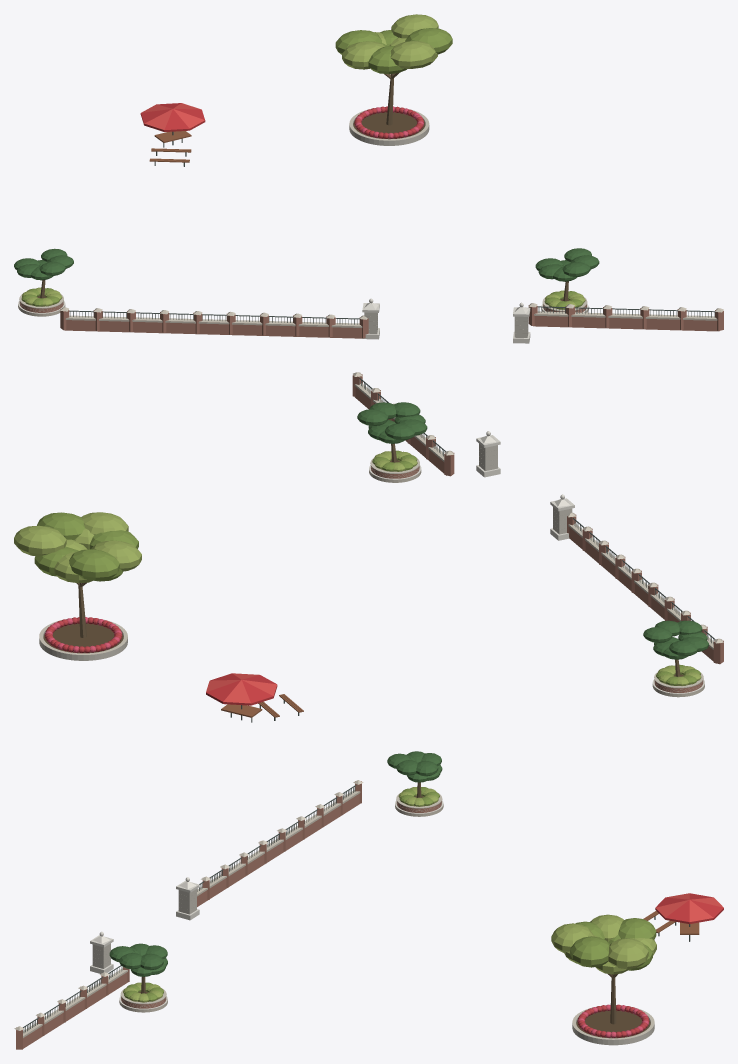
The picture shows the model from 3 angles, top to bottom: view 1: azimuth 30°, elevation 25°; view 2: azimuth 150°, elevation 25°; view 3: azimuth 270°, elevation 25°; orthographic projection. The views are drawn at different scales.
Visible parts, largest first — view 1: gate-fence__fenceBrick, gate-fence__graniteWarm, courtyard-tree__leafLight, courtyard-tree__leafGreen, gate-pine-east__pineGreen, gate-fence__fenceIron, gate-piers__granite, courtyard-round-planter__bedSoil, courtyard-parasol__umbrellaRed, gate-piers__graniteWhite, courtyard-parasol__umbrellaLight, courtyard-round-planter__flowerRed (+1 smaller); view 2: courtyard-tree__leafLight, gate-pine-east__pineGreen, gate-fence__fenceBrick, courtyard-tree__leafGreen, gate-fence__graniteWarm, gate-piers__granite, courtyard-round-planter__bedSoil, courtyard-parasol__umbrellaRed, gate-piers__graniteWhite, courtyard-parasol__umbrellaLight, gate-fence__fenceIron, courtyard-round-planter__flowerRed (+1 smaller); view 3: gate-fence__fenceBrick, courtyard-tree__leafLight, gate-fence__graniteWarm, courtyard-tree__leafGreen, gate-pine-east__pineGreen, gate-piers__granite, gate-fence__fenceIron, courtyard-round-planter__bedSoil, courtyard-parasol__umbrellaRed, gate-piers__graniteWhite, courtyard-parasol__umbrellaLight, courtyard-round-planter__flowerRed.
Part boxes in pixels (x1,y1,x2,y2): gate-fence__fenceBrick: (19,302,723,338); gate-fence__graniteWarm: (18,107,723,327); courtyard-tree__leafLight: (22,14,585,308); courtyard-tree__leafGreen: (21,28,583,309); gate-pine-east__pineGreen: (14,248,599,281); gate-fence__fenceIron: (69,131,715,324); gate-piers__granite: (349,118,528,337); courtyard-round-planter__bedSoil: (37,112,569,306); courtyard-parasol__umbrellaRed: (140,103,205,131); gate-piers__graniteWhite: (18,298,588,343); courtyard-parasol__umbrellaLight: (141,103,204,129); courtyard-round-planter__flowerRed: (354,106,424,138); courtyard-tree__leafLight: (14,451,701,685); gate-pine-east__pineGreen: (357,402,708,659); gate-fence__fenceBrick: (352,374,723,692); courtyard-tree__leafGreen: (34,450,700,685); gate-fence__graniteWarm: (39,372,723,697); gate-piers__granite: (39,443,572,660); courtyard-round-planter__bedSoil: (43,460,683,685); courtyard-parasol__umbrellaRed: (206,673,277,705); gate-piers__graniteWhite: (369,431,704,693); courtyard-parasol__umbrellaLight: (206,673,277,703); gate-fence__fenceIron: (230,377,715,722); courtyard-round-planter__flowerRed: (45,617,122,653); gate-fence__fenceBrick: (16,781,441,1049); courtyard-tree__leafLight: (123,787,656,1002); gate-fence__graniteWarm: (14,780,654,1039); courtyard-tree__leafGreen: (124,787,656,1001); gate-pine-east__pineGreen: (109,751,442,976); gate-piers__granite: (92,889,654,1045); gate-fence__fenceIron: (23,785,690,1032); courtyard-round-planter__bedSoil: (129,796,650,1038); courtyard-parasol__umbrellaRed: (655,893,723,924); gate-piers__graniteWhite: (90,800,443,1009); courtyard-parasol__umbrellaLight: (655,893,723,921); courtyard-round-planter__flowerRed: (578,1004,649,1037).
Bounding box in the file's own units: 45.04 × 8.23 × 51.71.
